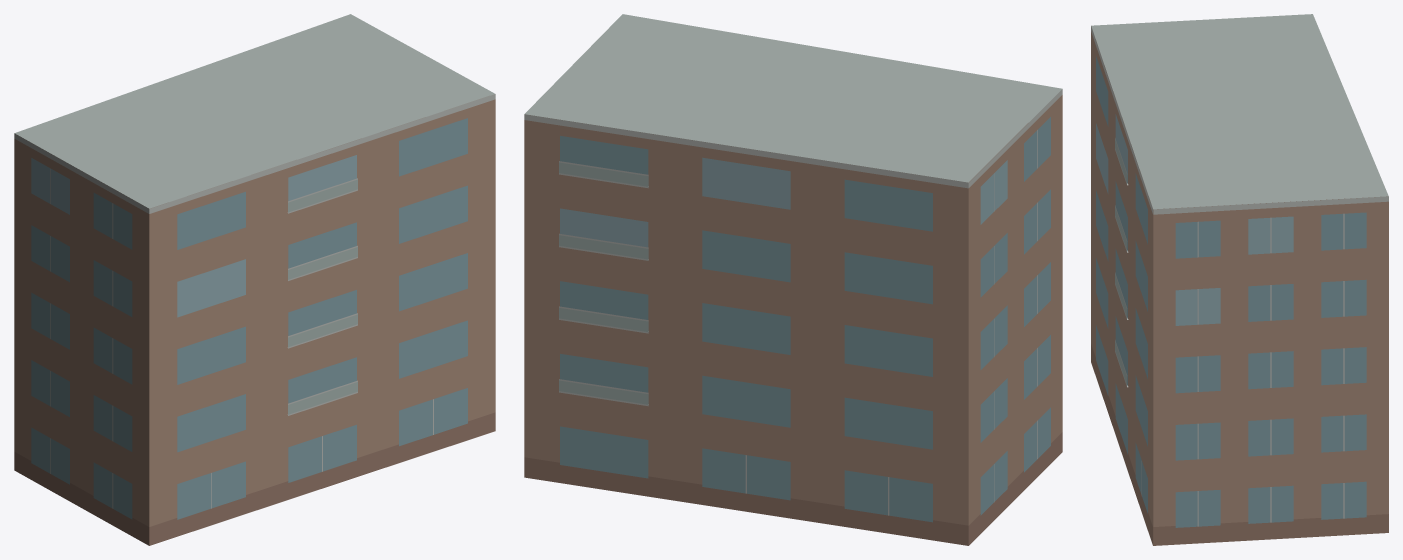
The model's file is survey-upis-32571118.glb.
3 renders of one model, left to right at view 1: azimuth 30°, elevation 25°; view 2: azimuth 150°, elevation 25°; view 3: azimuth 270°, elevation 25°, orthographic. The views are drawn at different scales.
Visible parts, largest first — view 1: survey-upis-32571118.tmp; view 2: survey-upis-32571118.tmp; view 3: survey-upis-32571118.tmp.
Part boxes in pixels (x1,y1,x2,y2): survey-upis-32571118.tmp: (14,14,495,545); survey-upis-32571118.tmp: (524,14,1062,545); survey-upis-32571118.tmp: (1091,14,1388,545).
Bounding box in the file's own units: 18.99 × 15.25 × 12.24.
